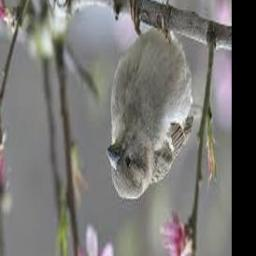Sparrow: (106, 0, 203, 201)
